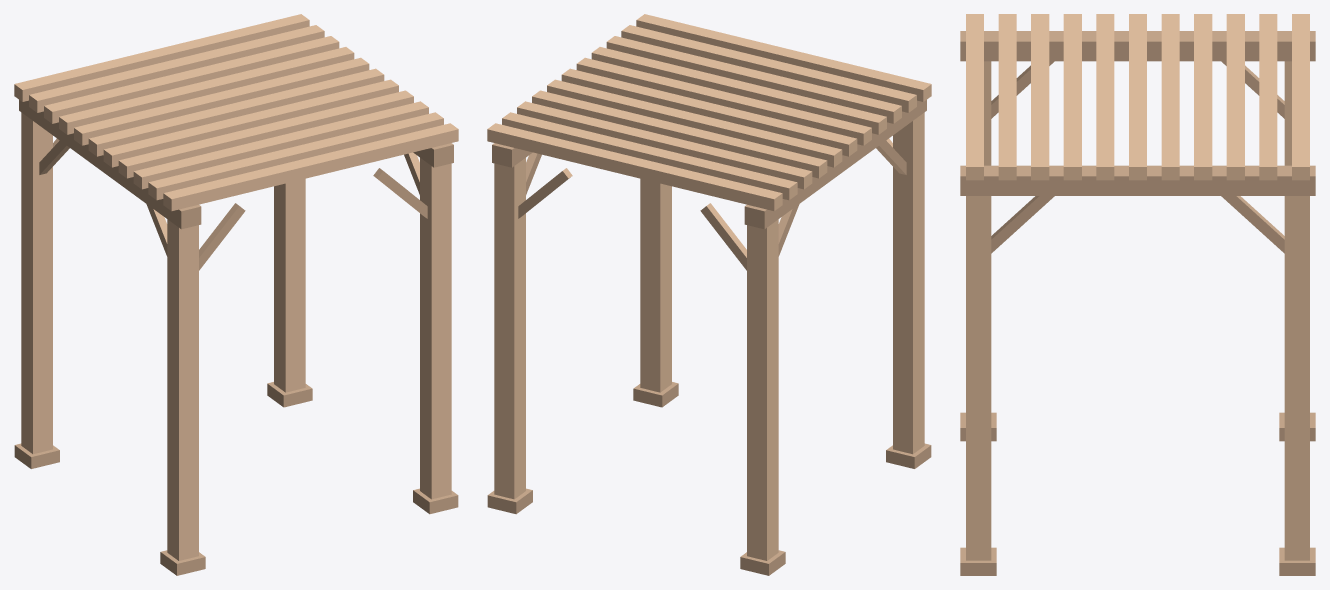
File: gardenPergola.glb
3 renders of one model, left to right at view 1: azimuth 30°, elevation 25°; view 2: azimuth 150°, elevation 25°; view 3: azimuth 270°, elevation 25°, orthographic. The views are drawn at different scales.
Parts seen in each view (by area): view 1: gardenPergola; view 2: gardenPergola; view 3: gardenPergola.
Part boxes in pixels (left/top/right/bottom): gardenPergola: left=14, top=14, right=458, bottom=575; gardenPergola: left=487, top=14, right=931, bottom=575; gardenPergola: left=960, top=14, right=1315, bottom=575.
Bounding box in the file's own units: 1 × 1.25 × 0.98.
